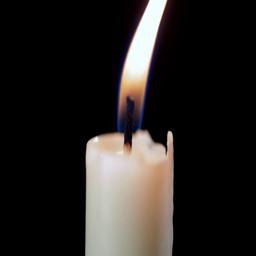fire: (119, 0, 168, 133)
